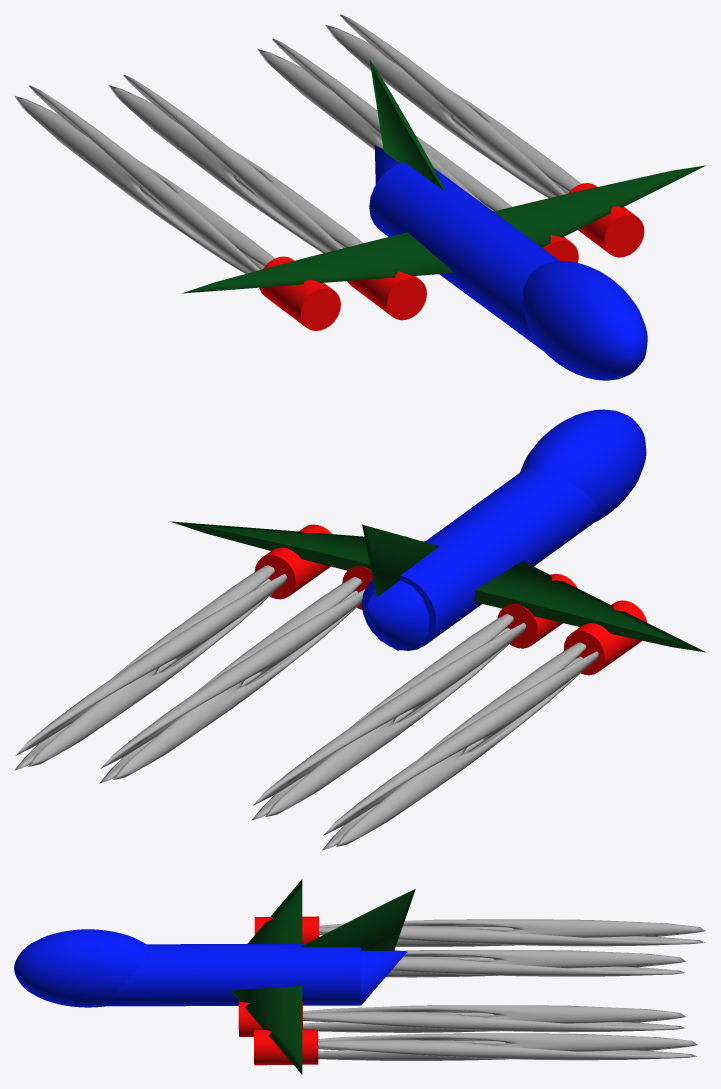
Rendered from boeing-747.obj.
3 renders of one model, top to bottom at view 1: azimuth 30°, elevation 25°; view 2: azimuth 150°, elevation 25°; view 3: azimuth 270°, elevation 25°, orthographic. The views are drawn at different scales.
Visible parts, largest first — view 1: Cylinder, Cone, Sphere, TorusKnot3, TorusKnot, TorusKnot2, TorusKnot1, Cone2, Cylinder3, Cylinder4, Cylinder2, Cylinder1; view 2: Cylinder, TorusKnot3, TorusKnot2, TorusKnot, TorusKnot1, Cone, Sphere, Cone1, Cone2, Cylinder3, Cylinder2, Cylinder4; view 3: Cylinder, TorusKnot1, TorusKnot, Sphere, TorusKnot3, TorusKnot2, Cone, Cone2, Cylinder2, Cone1, Cylinder3, Cylinder1.
Part boxes in pixels (left/top/right/bottom): Cylinder: left=369, top=162, right=575, bottom=373; Cone: left=181, top=165, right=705, bottom=293; Sphere: left=523, top=261, right=647, bottom=380; TorusKnot3: left=14, top=85, right=274, bottom=273; TorusKnot: left=325, top=14, right=581, bottom=198; TorusKnot2: left=108, top=74, right=363, bottom=253; TorusKnot1: left=257, top=38, right=511, bottom=211; Cone2: left=369, top=60, right=444, bottom=190; Cylinder3: left=259, top=256, right=340, bottom=330; Cylinder4: left=347, top=271, right=426, bottom=320; Cylinder2: left=568, top=183, right=644, bottom=257; Cylinder1: left=542, top=235, right=578, bottom=262; Cylinder: left=361, top=470, right=600, bottom=650; TorusKnot3: left=322, top=642, right=598, bottom=850; TorusKnot2: left=251, top=614, right=526, bottom=820; TorusKnot: left=14, top=565, right=286, bottom=770; TorusKnot1: left=99, top=577, right=364, bottom=783; Cone: left=170, top=521, right=705, bottom=652; Sphere: left=520, top=409, right=646, bottom=521; Cone1: left=367, top=580, right=443, bottom=650; Cone2: left=362, top=524, right=439, bottom=596; Cylinder3: left=564, top=600, right=647, bottom=675; Cylinder2: left=255, top=524, right=331, bottom=599; Cylinder4: left=497, top=573, right=577, bottom=648; Cylinder: left=70, top=943, right=360, bottom=1006; TorusKnot1: left=303, top=1005, right=686, bottom=1032; TorusKnot: left=318, top=1033, right=698, bottom=1060; Sphere: left=14, top=929, right=147, bottom=1007; TorusKnot3: left=319, top=919, right=705, bottom=946; TorusKnot2: left=386, top=950, right=686, bottom=977; Cone: left=231, top=879, right=302, bottom=1074; Cone2: left=301, top=889, right=415, bottom=950; Cylinder2: left=253, top=1029, right=318, bottom=1065; Cone1: left=356, top=950, right=407, bottom=1005; Cylinder3: left=254, top=916, right=319, bottom=943; Cylinder1: left=238, top=1001, right=302, bottom=1036.
Bounding box in the file's own units: 7.22 × 2.05 × 10.79.
